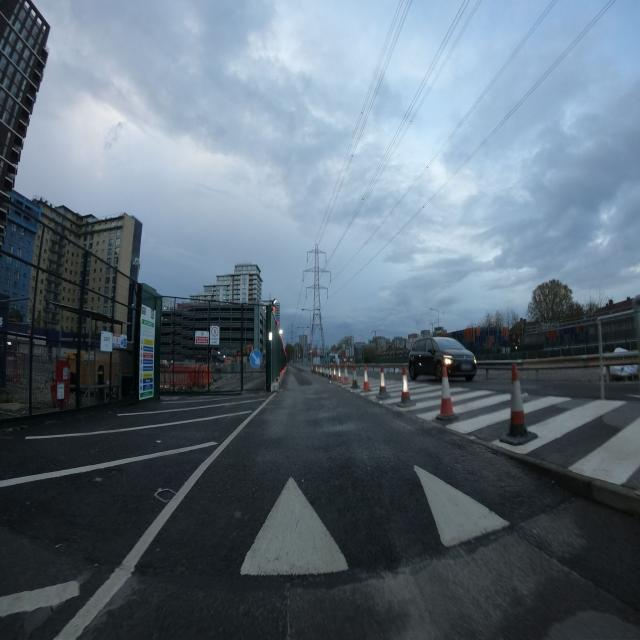car: (407, 336, 478, 382)
